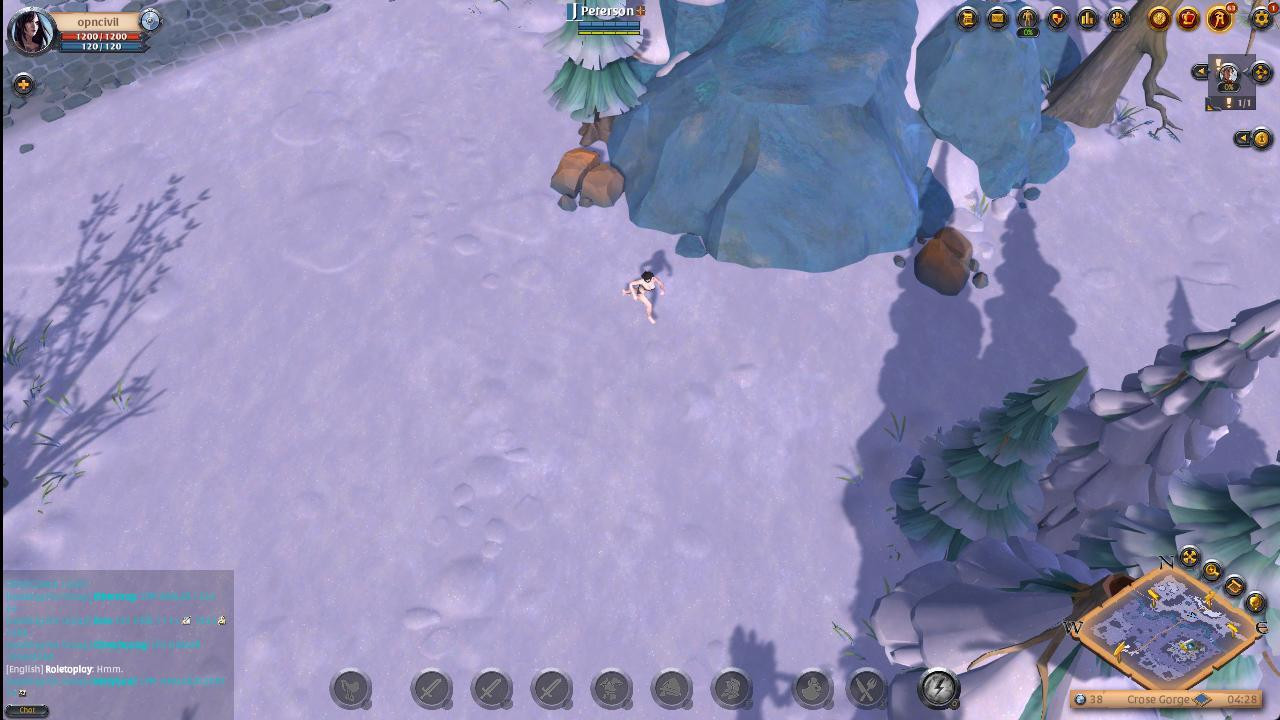limestone: (893, 220, 996, 299), (547, 144, 628, 215)
